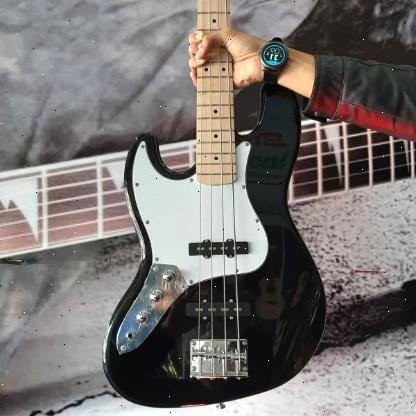bass: (101, 1, 327, 410)
